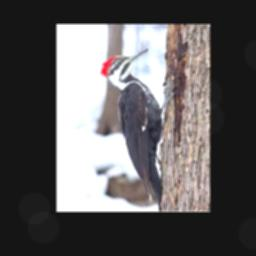Woodpecker: (100, 48, 176, 212)
